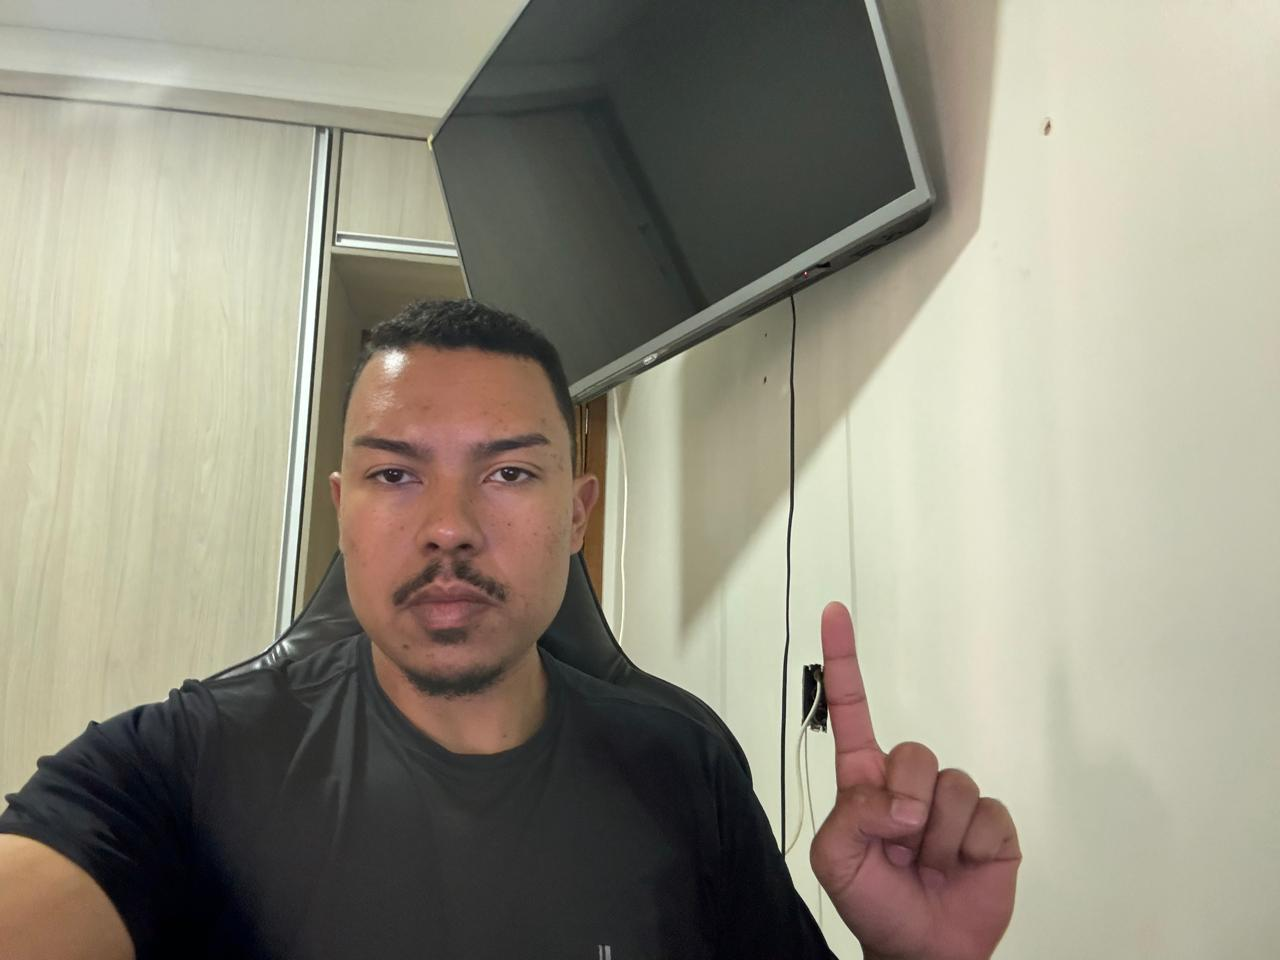z: (805, 593, 1031, 960)
